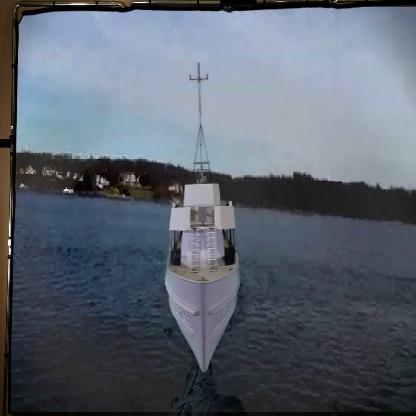YP689: (162, 61, 242, 371)
